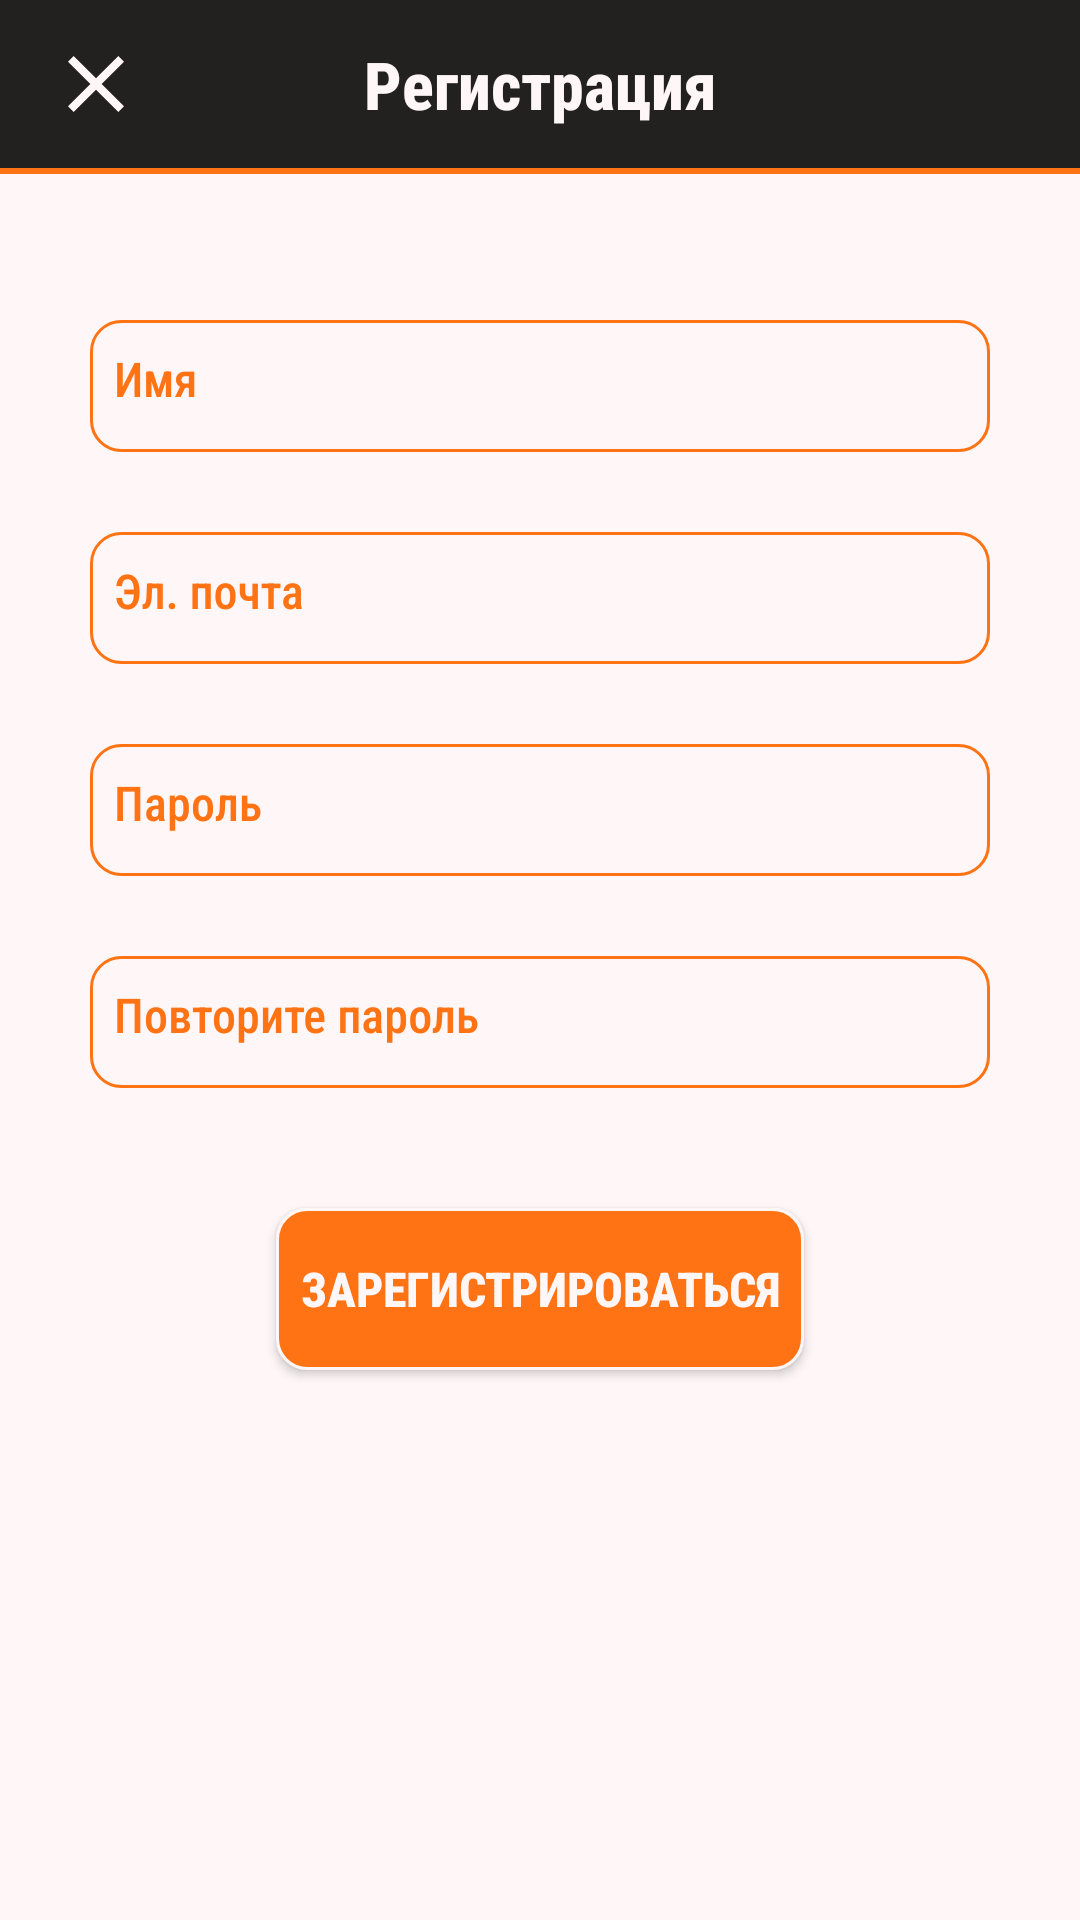

Where to tap for icons on this 1080w x 1920h app screen, as point (x, y):
close: point (96, 84)
